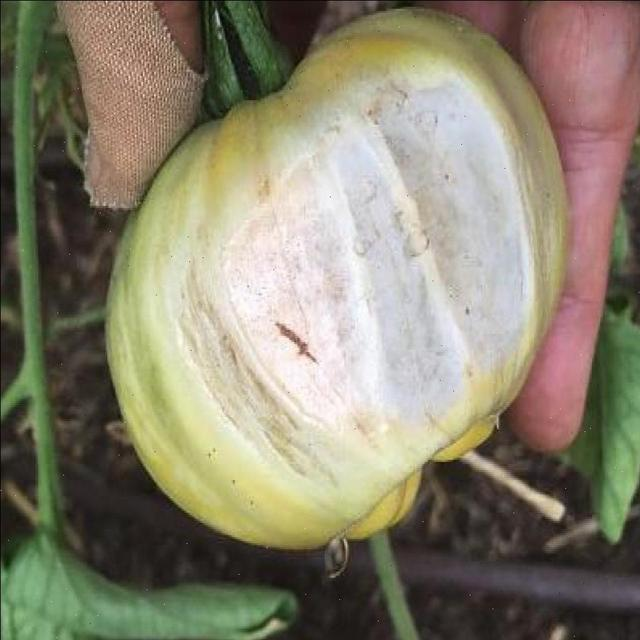Sunscald Fruit: (102, 38, 349, 337)
